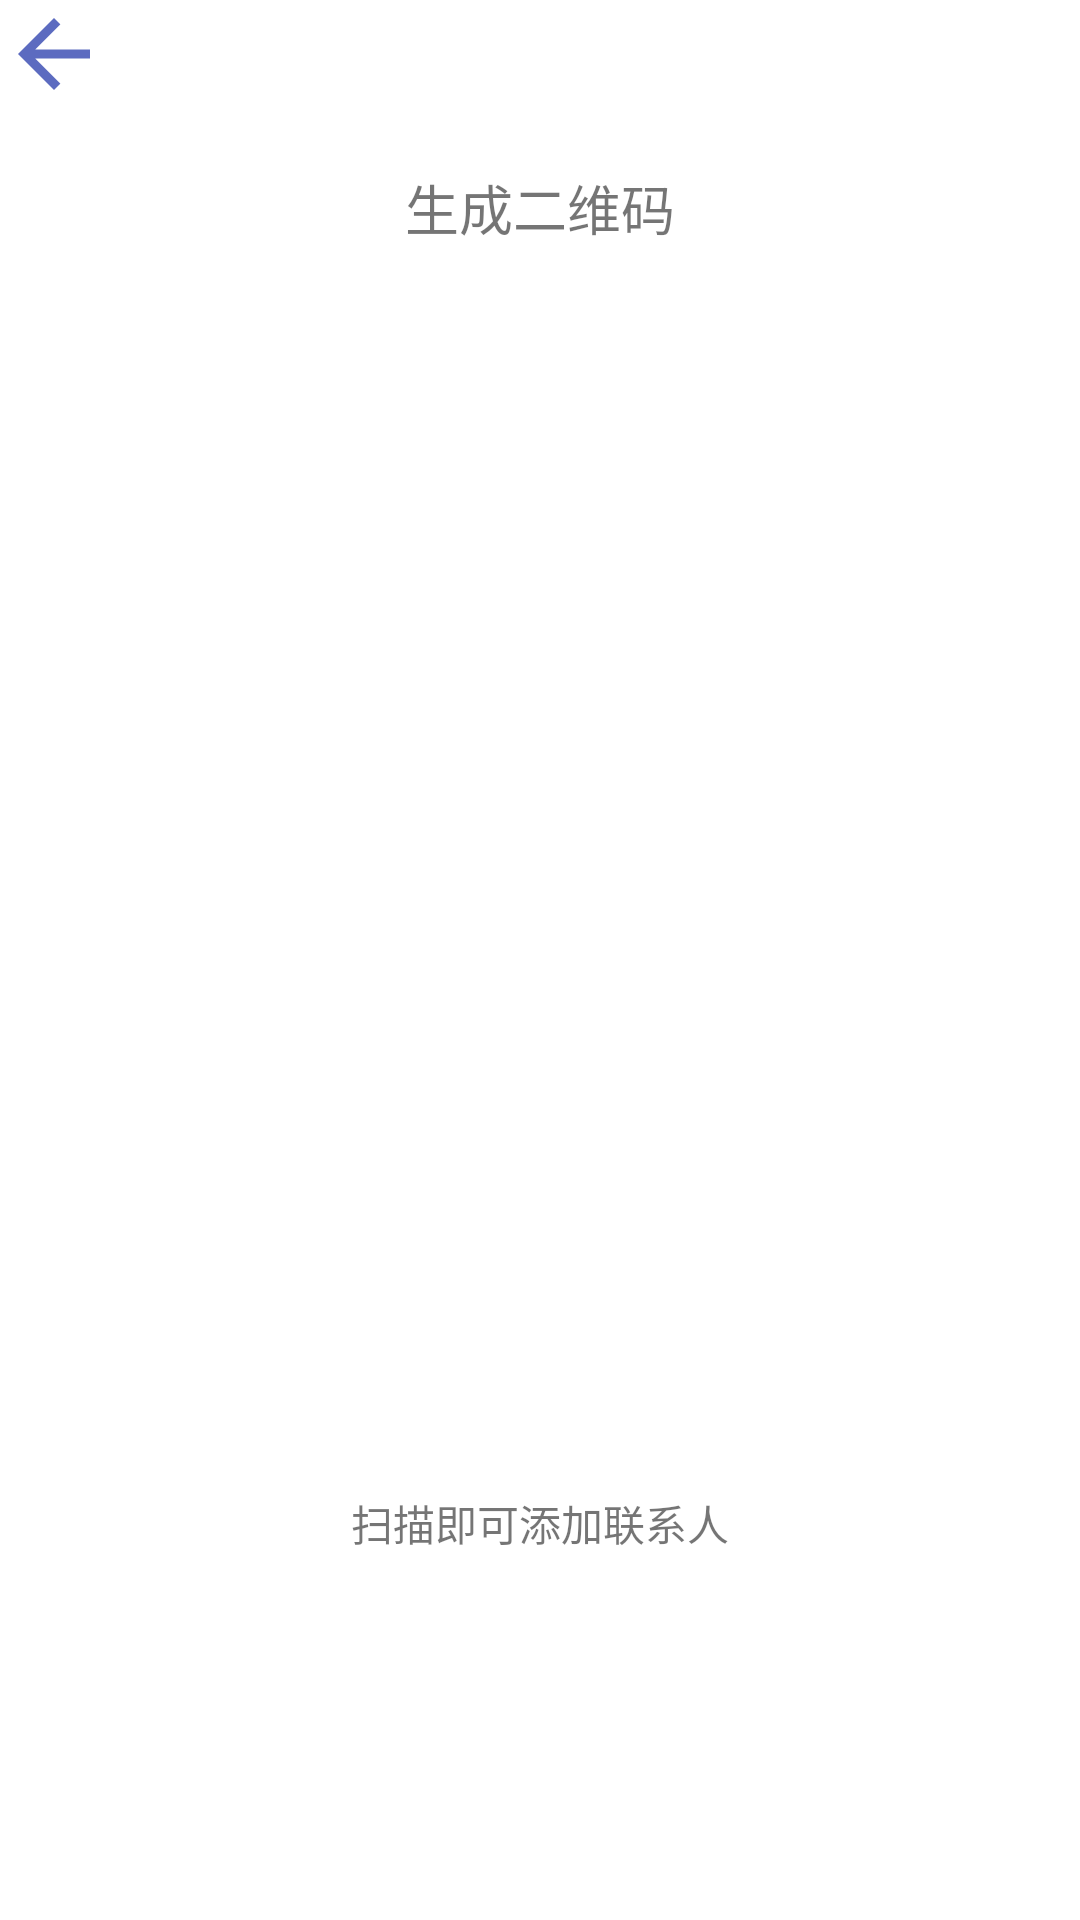

Screen size 1080 × 1920. Icon name, then its center in pixels as [x,y]:
arrow back indigo: [54,54]
